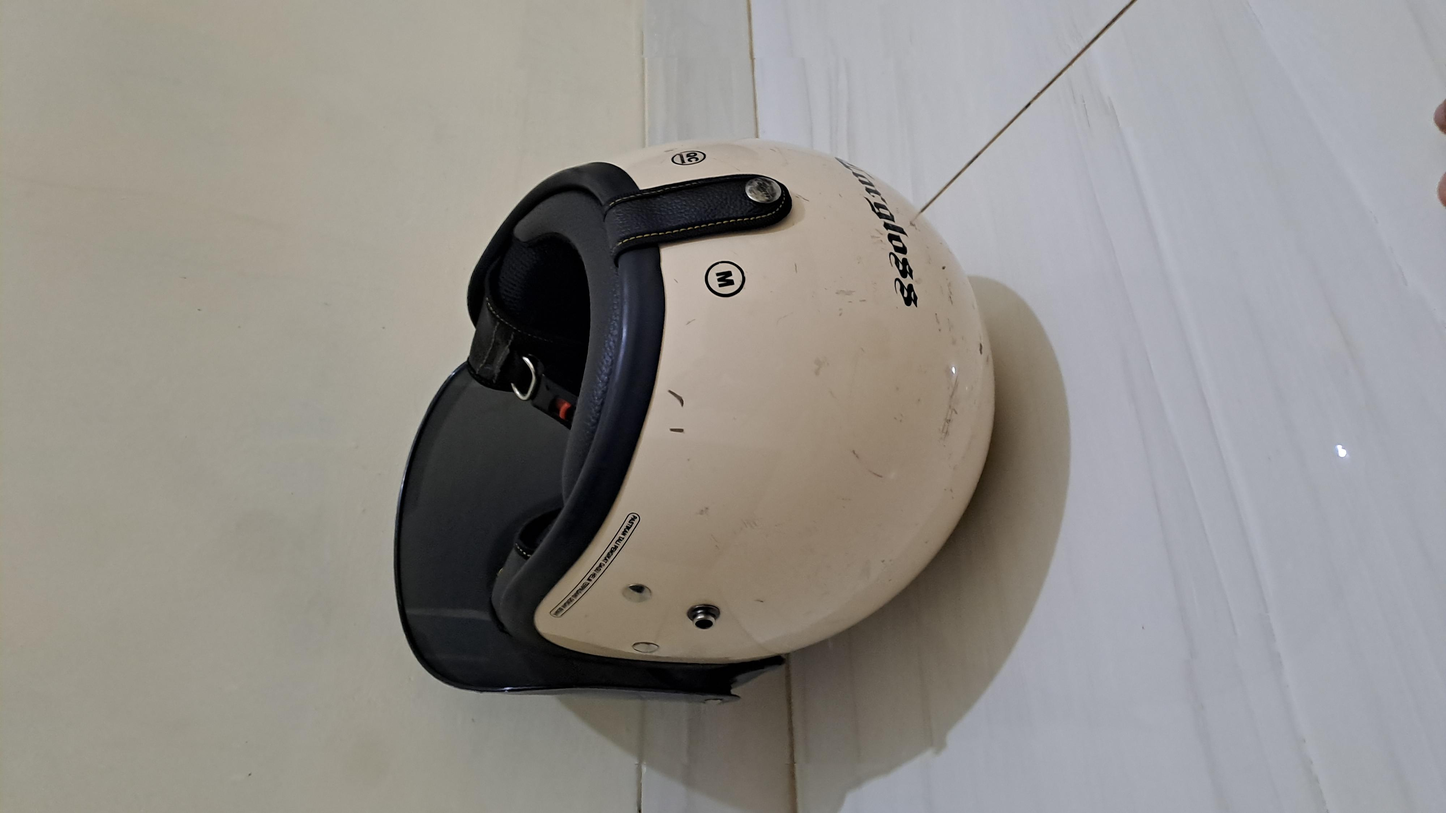helmet: (181, 198, 1254, 588)
